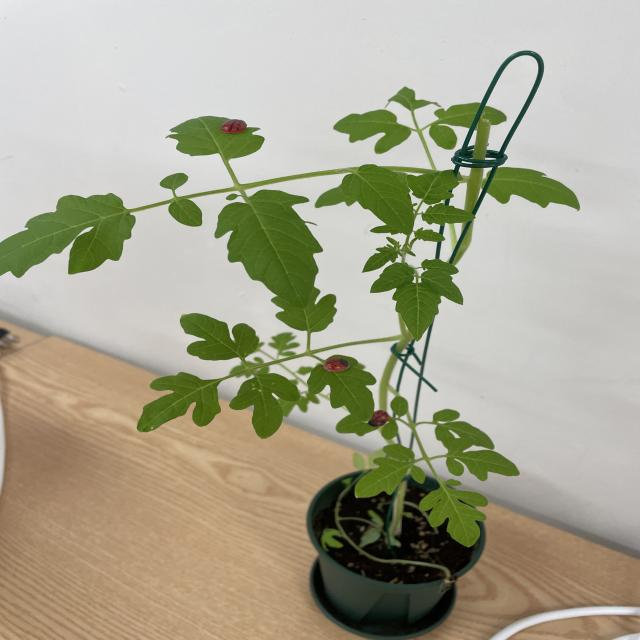bug: (308, 351, 360, 385), (350, 408, 402, 438), (208, 108, 252, 140)
